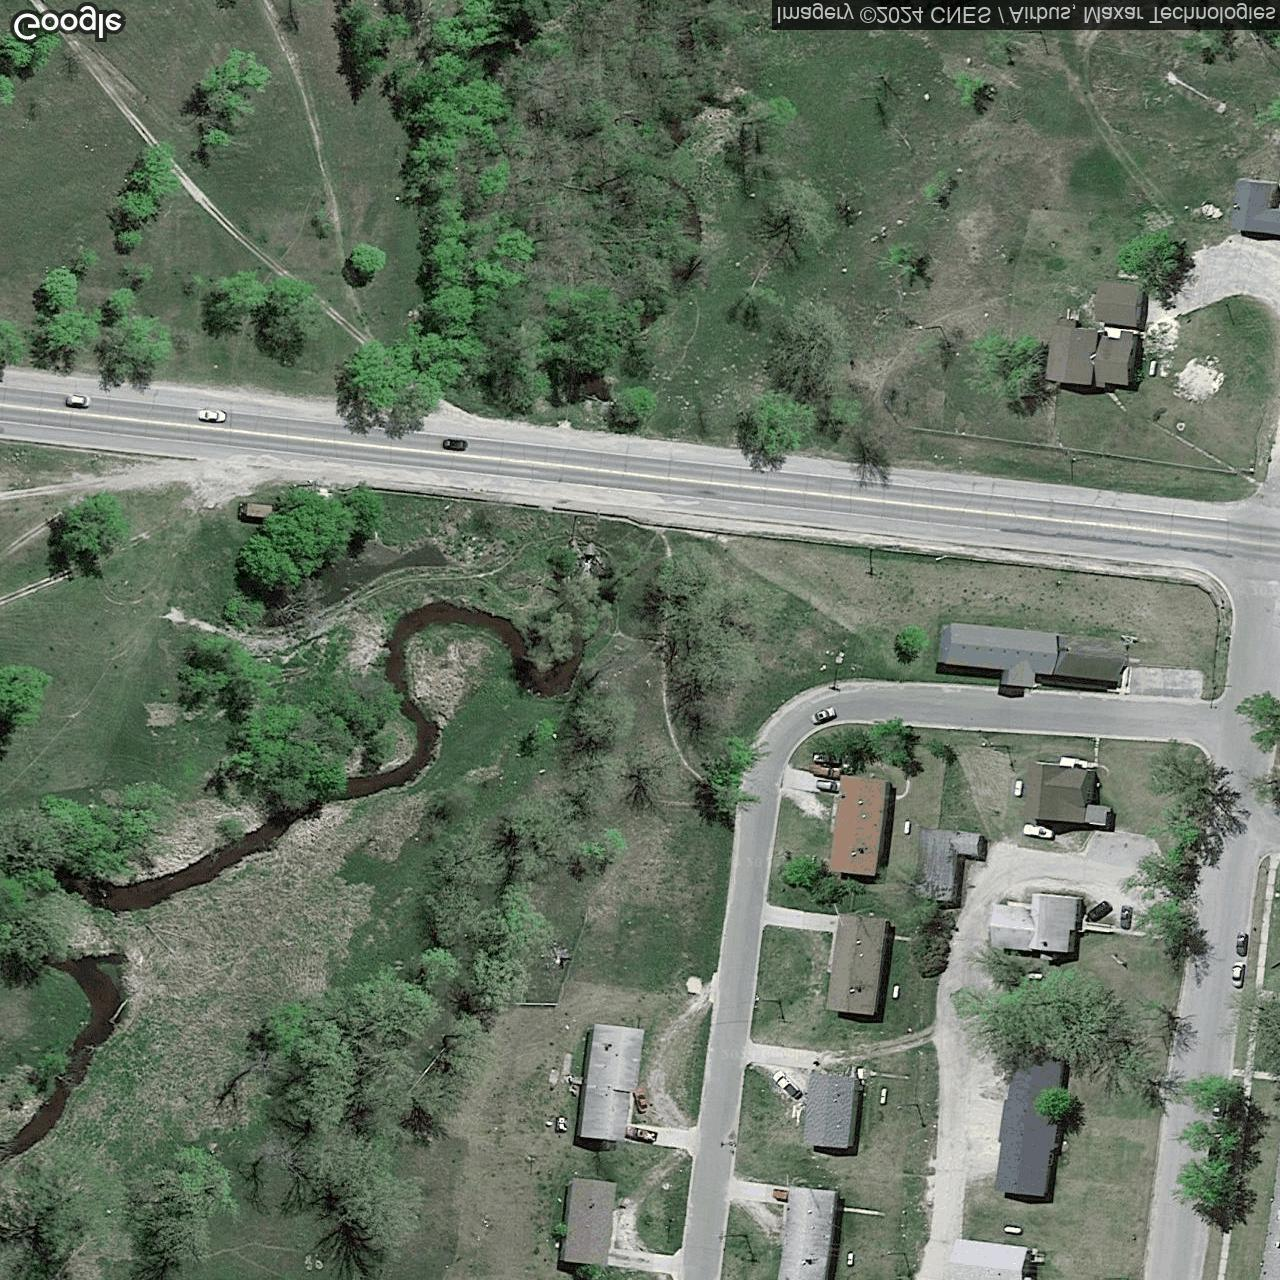Garage: (1094, 279, 1145, 329)
House: (935, 622, 1129, 689), (993, 1054, 1070, 1197), (573, 1021, 647, 1143), (825, 911, 892, 1016), (828, 774, 892, 878), (1044, 319, 1139, 388), (775, 1184, 840, 1280), (988, 891, 1084, 954), (1024, 761, 1115, 826), (559, 1176, 621, 1269), (913, 828, 985, 905), (801, 1073, 863, 1151), (945, 1237, 1039, 1280), (1227, 176, 1280, 236)
Propane: (1001, 1223, 1024, 1237), (877, 1085, 891, 1108), (1146, 360, 1159, 379), (1013, 779, 1024, 798), (891, 983, 903, 1001), (845, 1252, 856, 1269), (1026, 972, 1044, 981), (903, 819, 912, 837)
